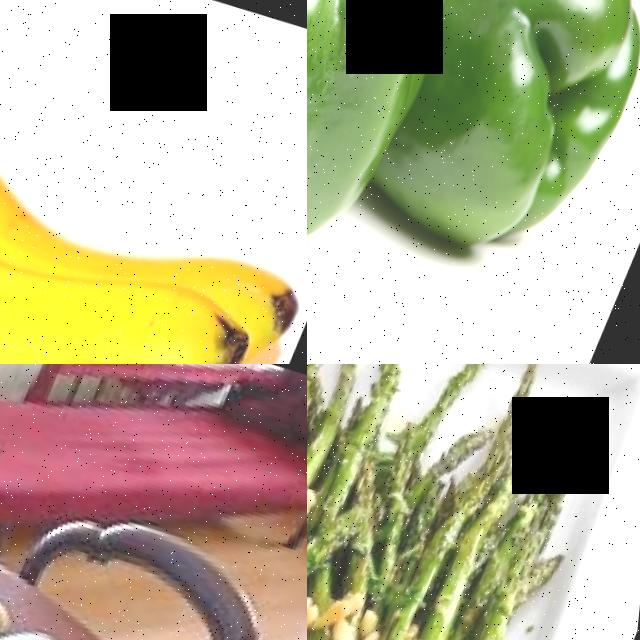asparagus: (326, 494, 515, 640), (354, 364, 500, 530), (313, 364, 419, 520), (464, 364, 563, 503)
banana: (0, 0, 307, 364), (0, 571, 30, 633)
bell pepper: (367, 0, 640, 285), (307, 0, 510, 311)
